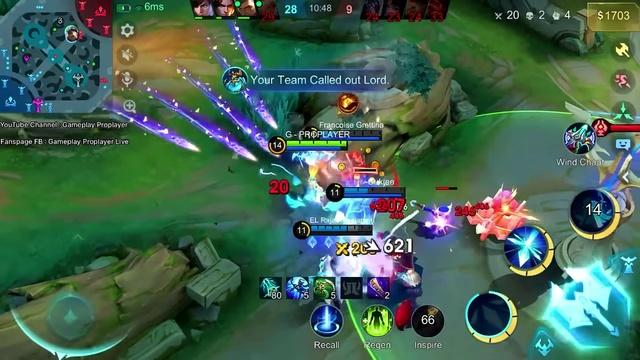Adc_Aliado: (64, 24, 77, 32)
Arbusto: (240, 88, 293, 154), (0, 0, 20, 15)
Esbirro_Enemigo: (464, 181, 526, 240), (423, 203, 452, 233)
HP_Aliado: (322, 130, 382, 138), (310, 225, 369, 231), (345, 188, 403, 193)
HP_Enemigo: (607, 124, 638, 130)
HP_Heroe_Principal: (286, 140, 350, 146)
Jungla_Aliado: (66, 30, 79, 43)
Lord_Activo: (32, 97, 45, 114)
Mana: (345, 193, 405, 198), (288, 147, 348, 151)
Minimapa: (0, 1, 109, 113)
Skill2: (506, 227, 555, 276)
Torre_Enemiga: (584, 133, 639, 224), (555, 231, 618, 269), (566, 102, 591, 123)
